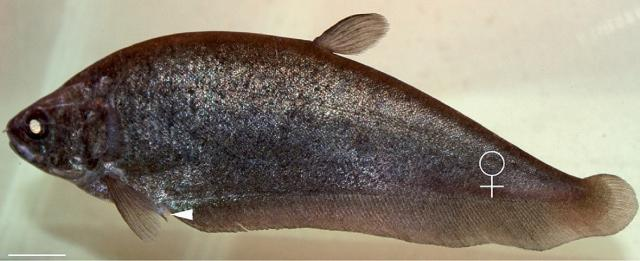Mulut: (6, 105, 34, 158)
Sirip Dada: (99, 168, 169, 244)
Sirip Punggung: (308, 12, 402, 68)
